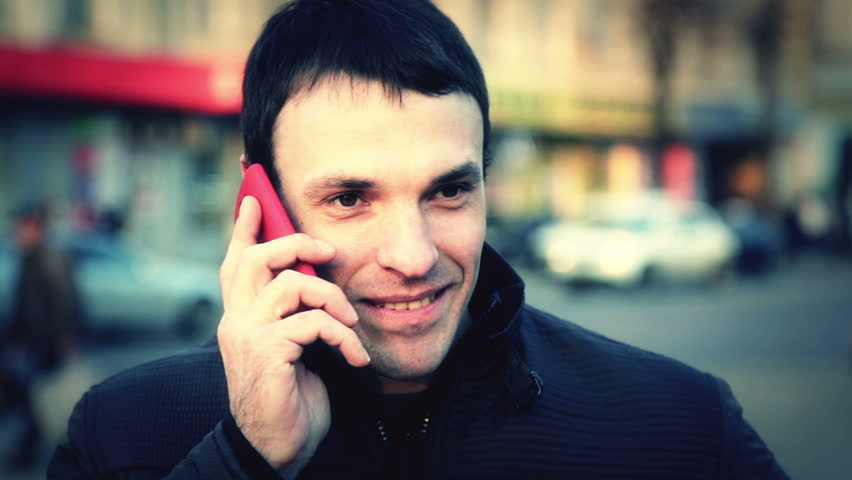phone: (213, 155, 323, 348)
talk: (211, 139, 486, 462)
